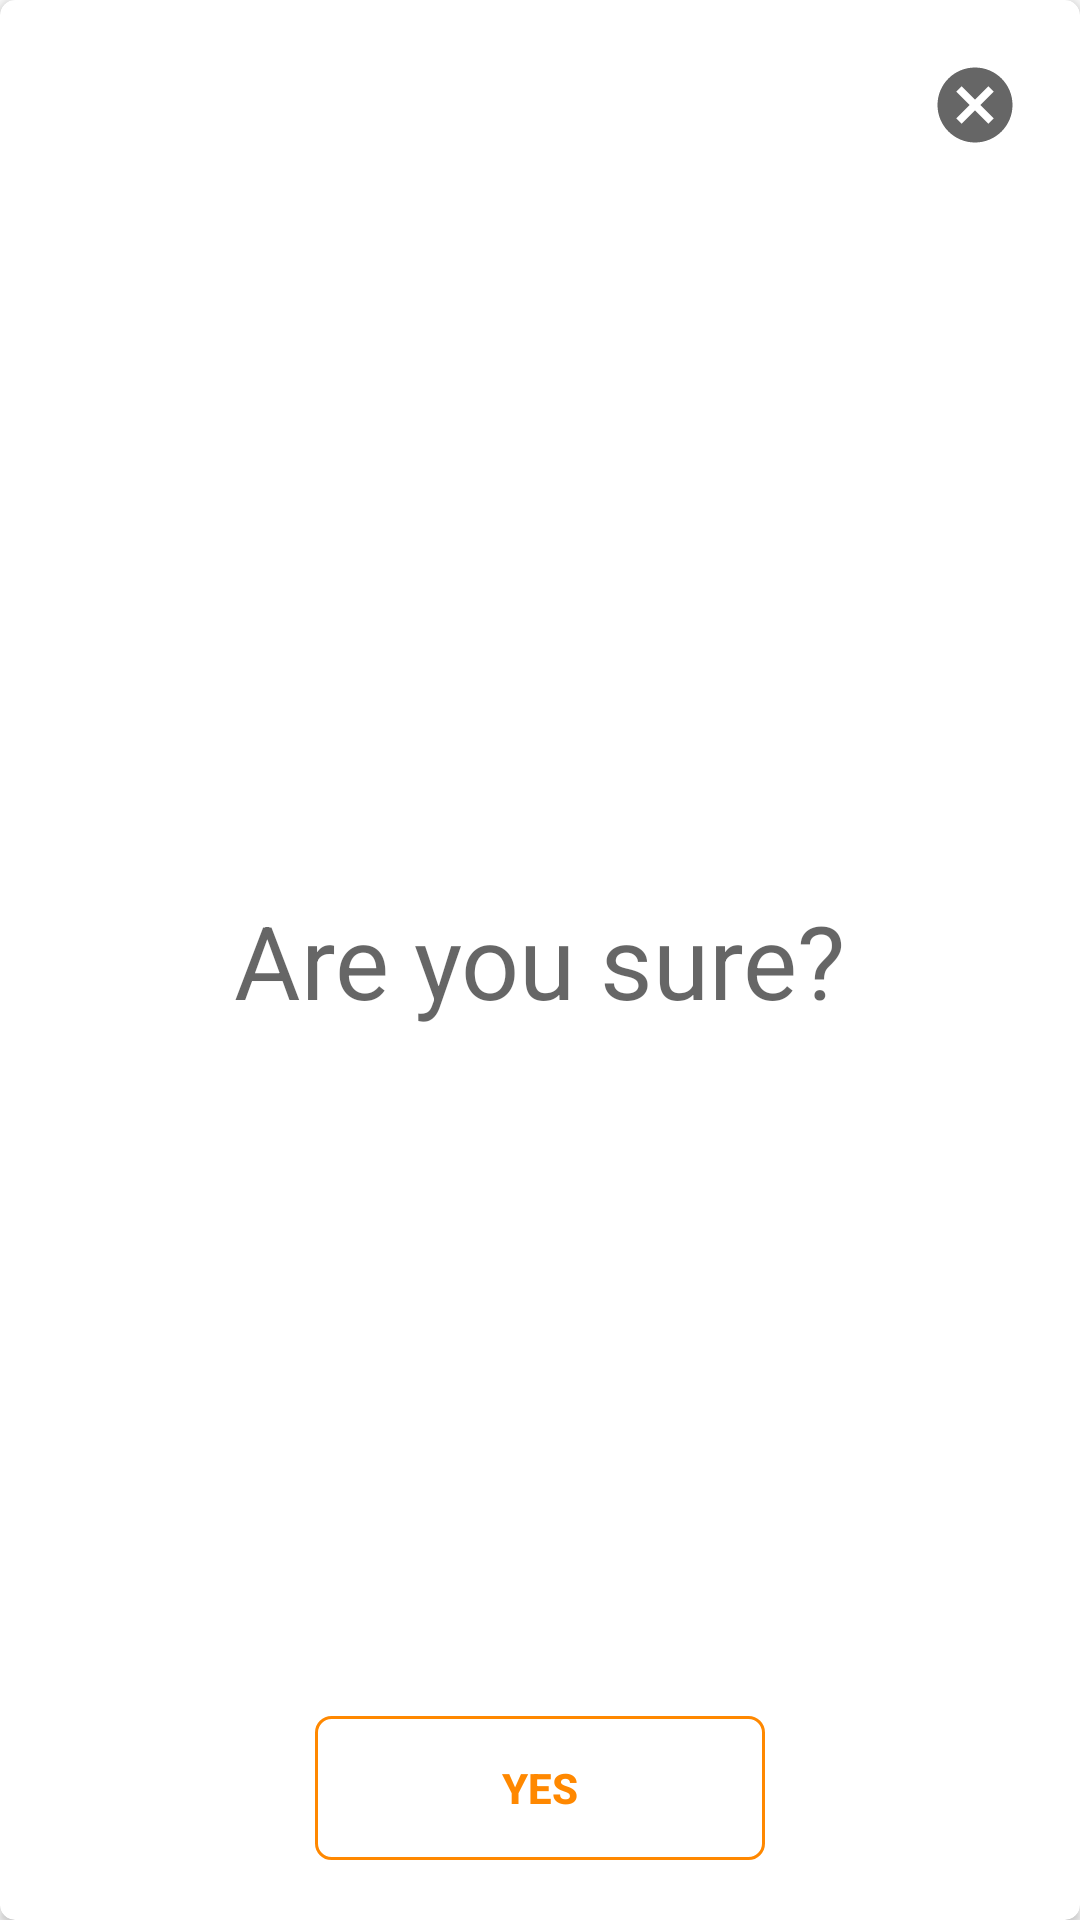

Icons on this 1080 x 1920 Android screen, each with the point to tap as point (x, y):
Cancel: point (975, 105)
